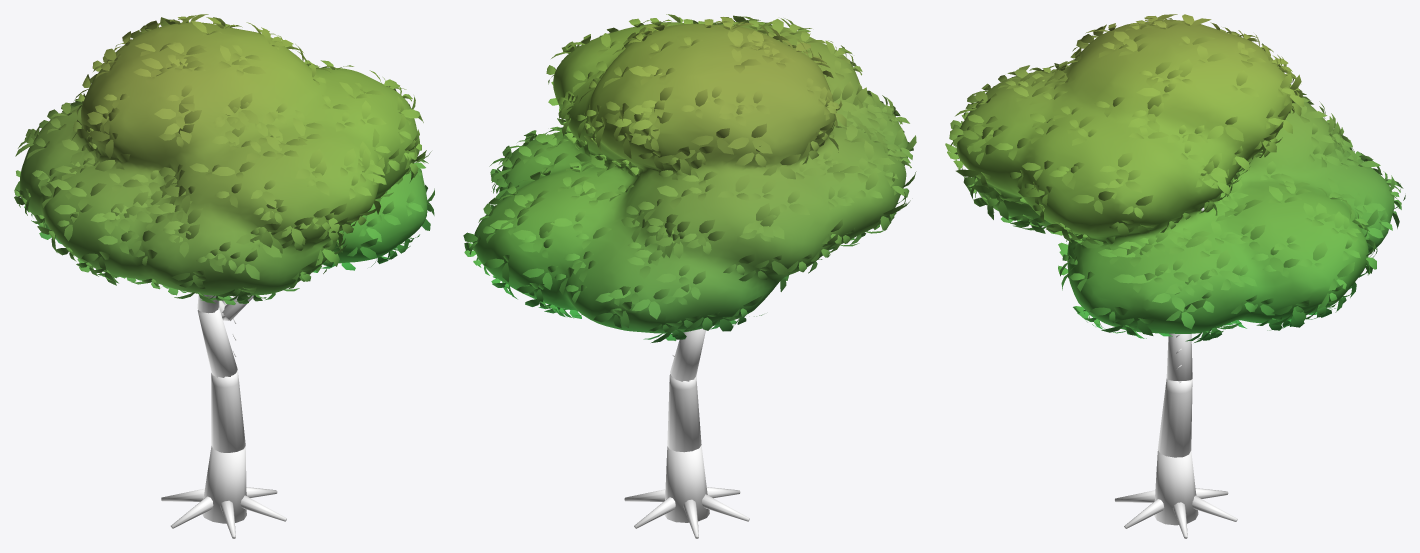
Rendered from beech_canopy_0.glb.
The picture shows the model from 3 angles, left to right: view 1: azimuth 30°, elevation 25°; view 2: azimuth 150°, elevation 25°; view 3: azimuth 270°, elevation 25°; orthographic projection. The views are drawn at different scales.
Parts seen in each view (by area): view 1: beech_canopy_0_Leaves, beech_canopy_0_Bark, beech_canopy_0_UpperBranches; view 2: beech_canopy_0_Leaves, beech_canopy_0_Bark, beech_canopy_0_UpperBranches; view 3: beech_canopy_0_Leaves, beech_canopy_0_Bark, beech_canopy_0_UpperBranches.
Part boxes in pixels (x1,y1,x2,y2): beech_canopy_0_Leaves: [14, 14, 434, 304]; beech_canopy_0_Bark: [161, 382, 286, 538]; beech_canopy_0_UpperBranches: [197, 294, 253, 387]; beech_canopy_0_Leaves: [463, 14, 916, 342]; beech_canopy_0_Bark: [624, 384, 749, 538]; beech_canopy_0_UpperBranches: [669, 328, 705, 389]; beech_canopy_0_Leaves: [945, 14, 1405, 342]; beech_canopy_0_Bark: [1115, 388, 1237, 538]; beech_canopy_0_UpperBranches: [1165, 207, 1204, 393].
Size of the model in its own units: 12.84 by 15.23 by 13.45.
